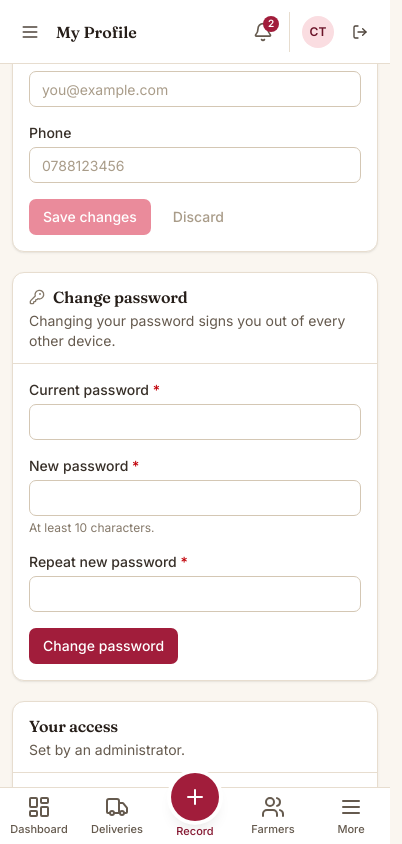
it: my profile › changes the password and keeps me signed in
The width and height of the screenshot is (402, 844).
(page scrolled)
Type "old-password-123" into the password field labelled "Current password *" at x=195, y=422, box [29,404,361,440]
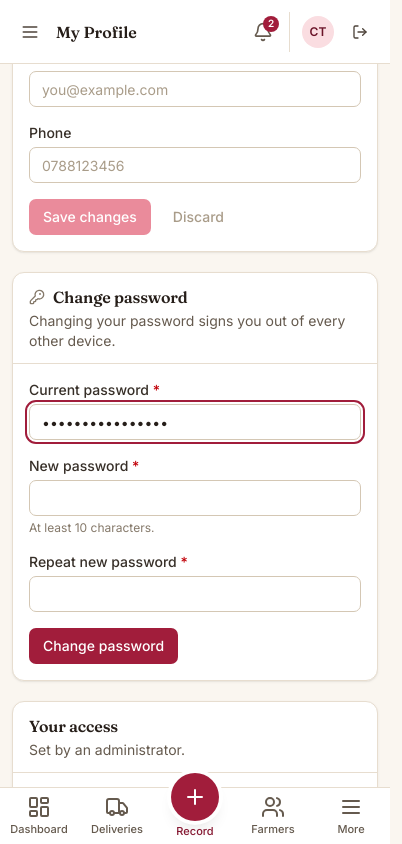
Type "Brand-new-passw0rd" into the password field labelled "New password *" at x=195, y=498, box [29,480,361,516]
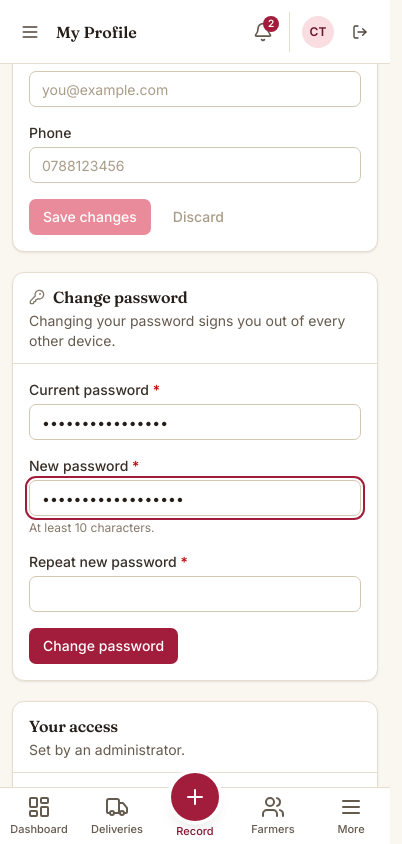
Type "Brand-new-passw0rd" into the password field labelled "Repeat new password *" at x=195, y=594, box [29,576,361,612]
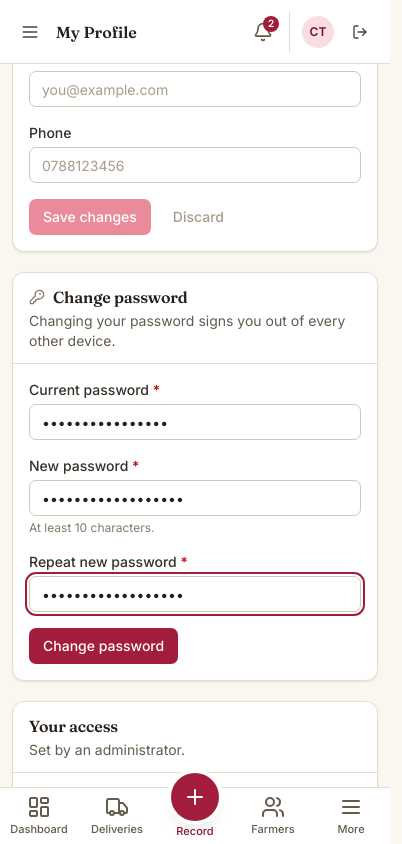
Click the button "Change password" at x=104, y=646, box [29,628,178,664]
(page scrolled)
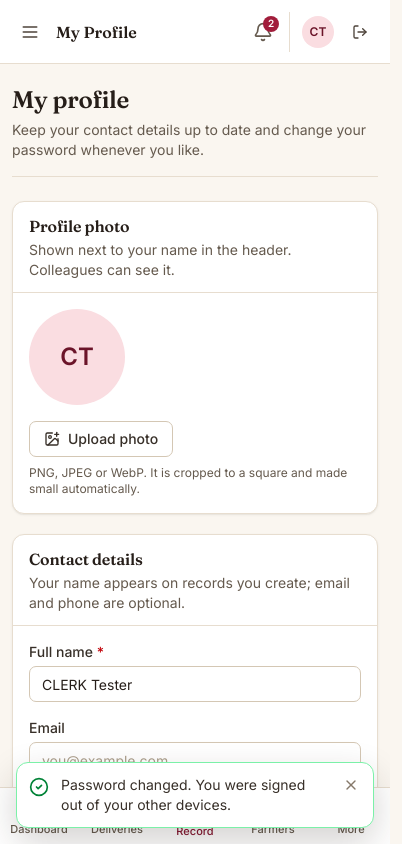
Expected: the heading "My profile" is shown, [12,85,129,114]
Result: the text "Password changed. You were signed out of your other devices." is shown at [61,775,329,815]
